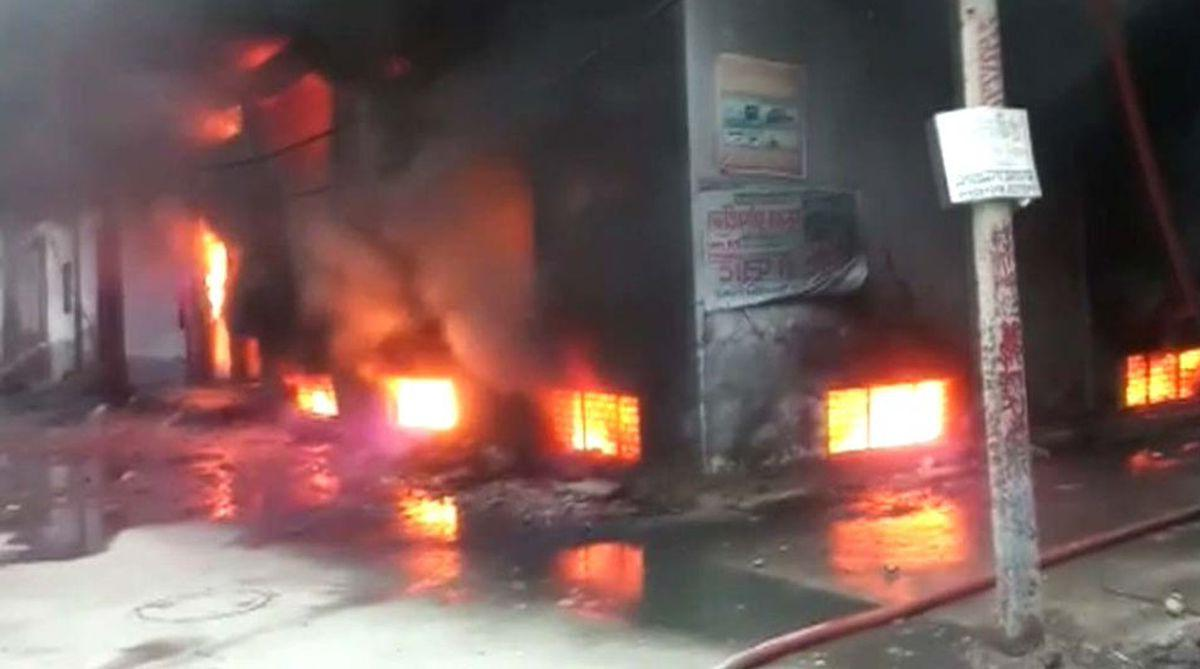fire: (819, 386, 955, 447), (558, 380, 637, 455), (185, 223, 235, 320), (381, 365, 460, 426), (1128, 350, 1198, 404), (291, 370, 344, 418)
